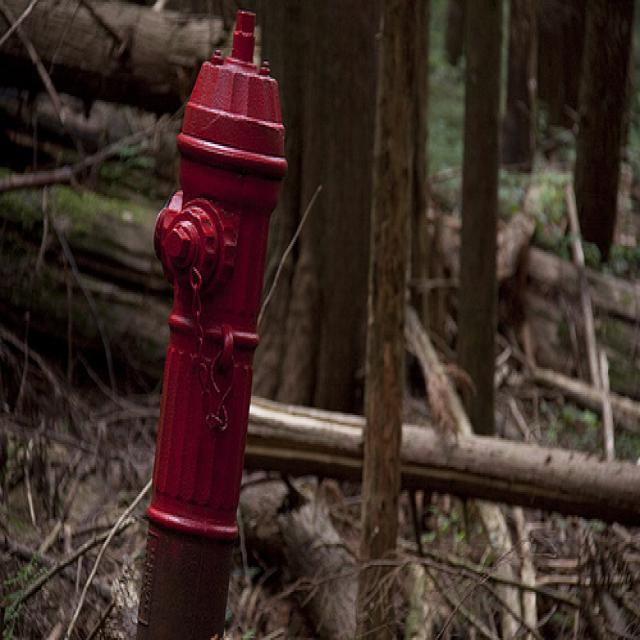fire_hydrant: (137, 10, 288, 632)
